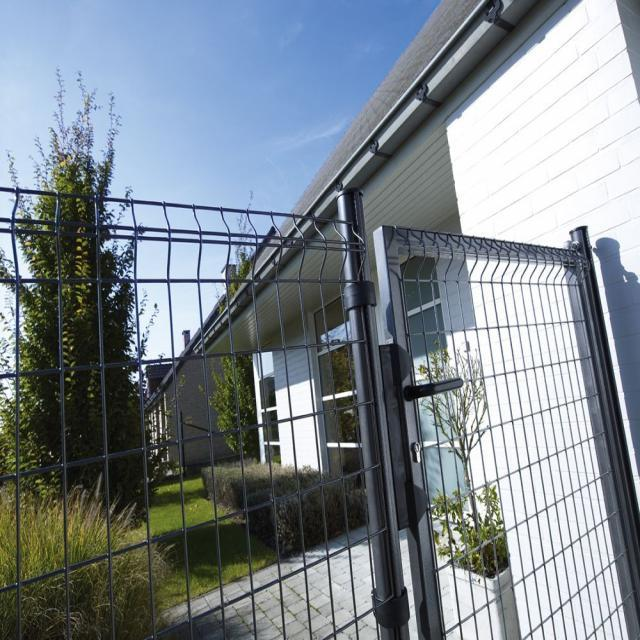fence line: (3, 186, 413, 640), (342, 239, 640, 640)
